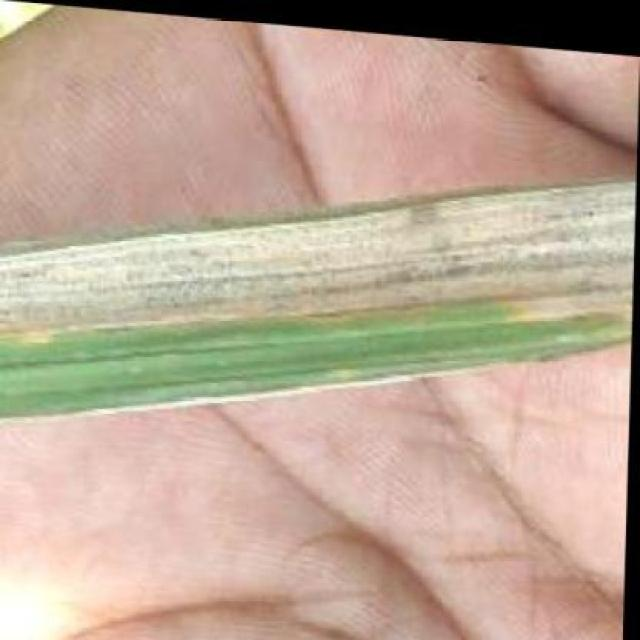Brown_Spot: (0, 181, 548, 364)
